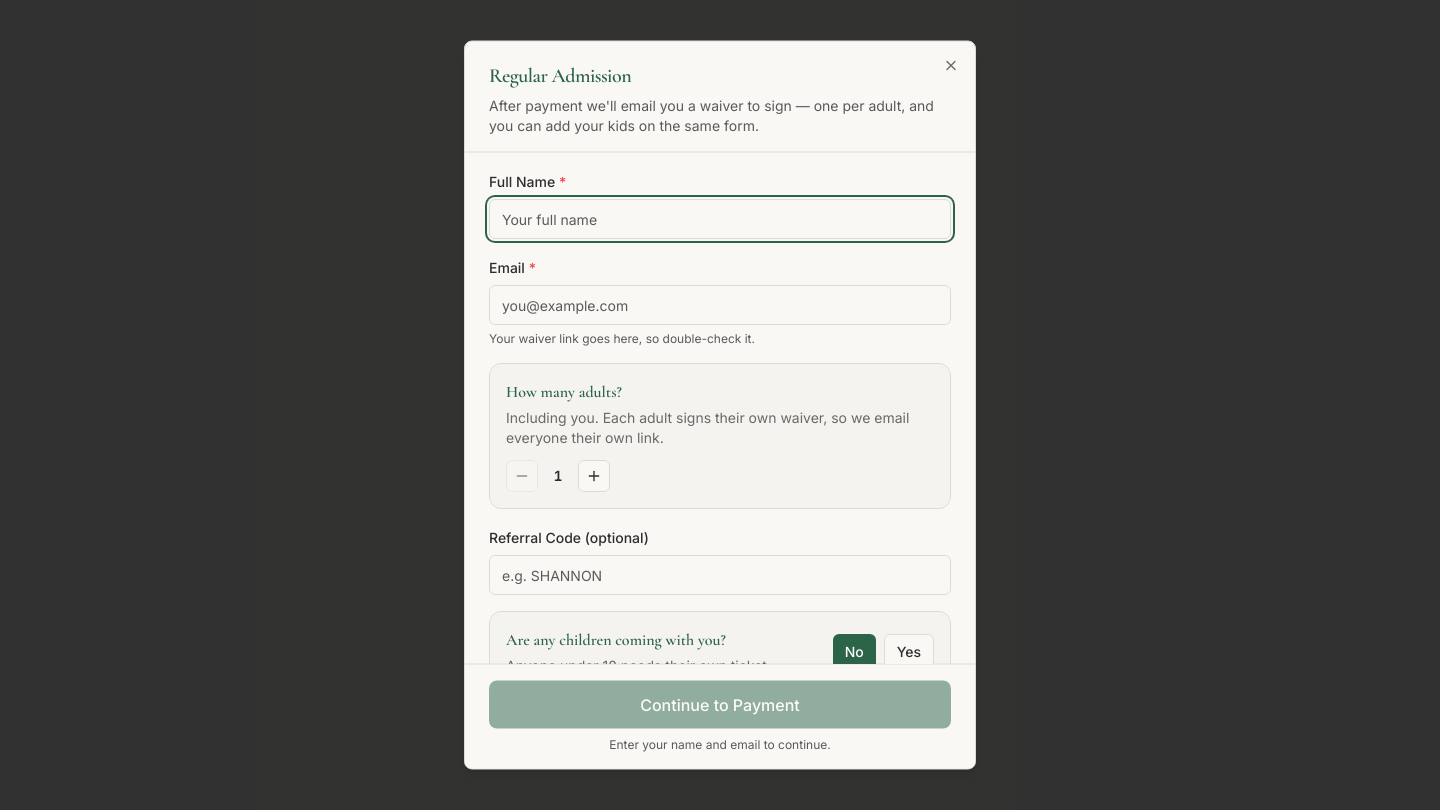
Test: adult quantity › adds a name and email field per additional adult
Later steps or results of the test are not shown.
Click the button named "One more adult ticket" at [594, 476], box [578,460,610,492]
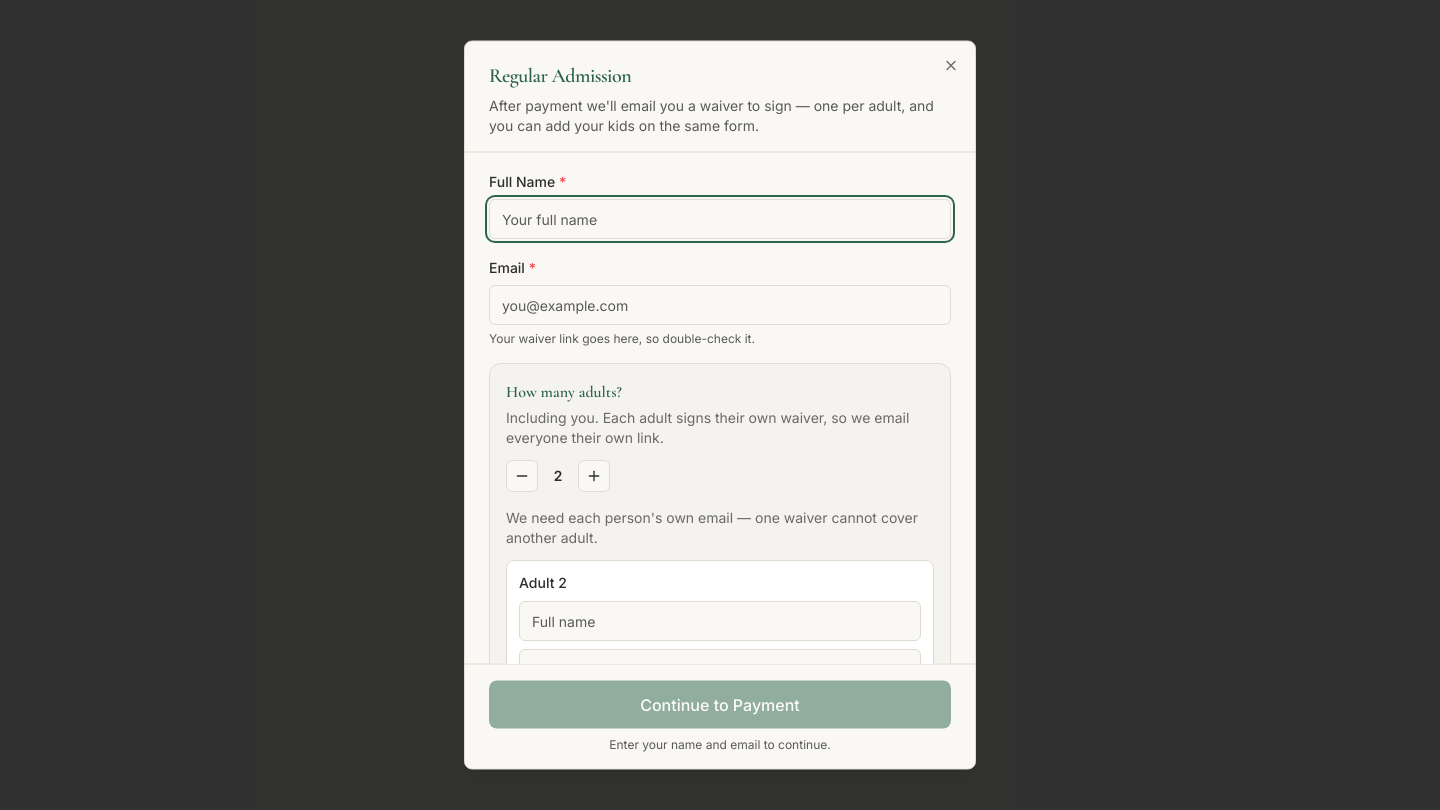
Now the text with test id "adult-count" reads "2", box [554,466,563,484]
Now the field with test id "adult-name-2" is shown, box [519,600,921,640]
